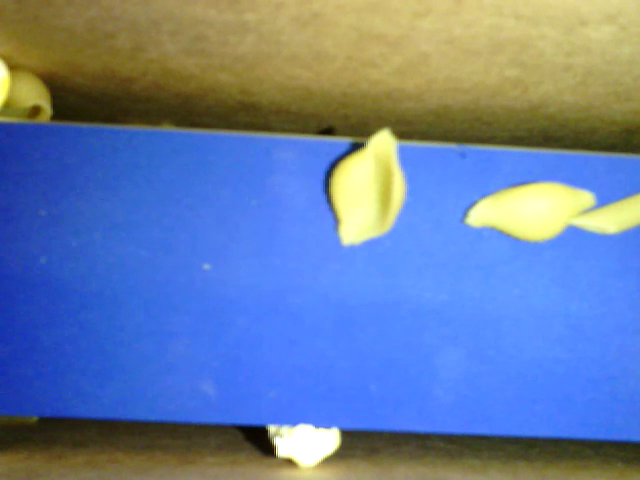penne: (568, 193, 639, 236)
shell: (325, 128, 405, 246), (461, 179, 593, 242), (1, 68, 59, 125)
